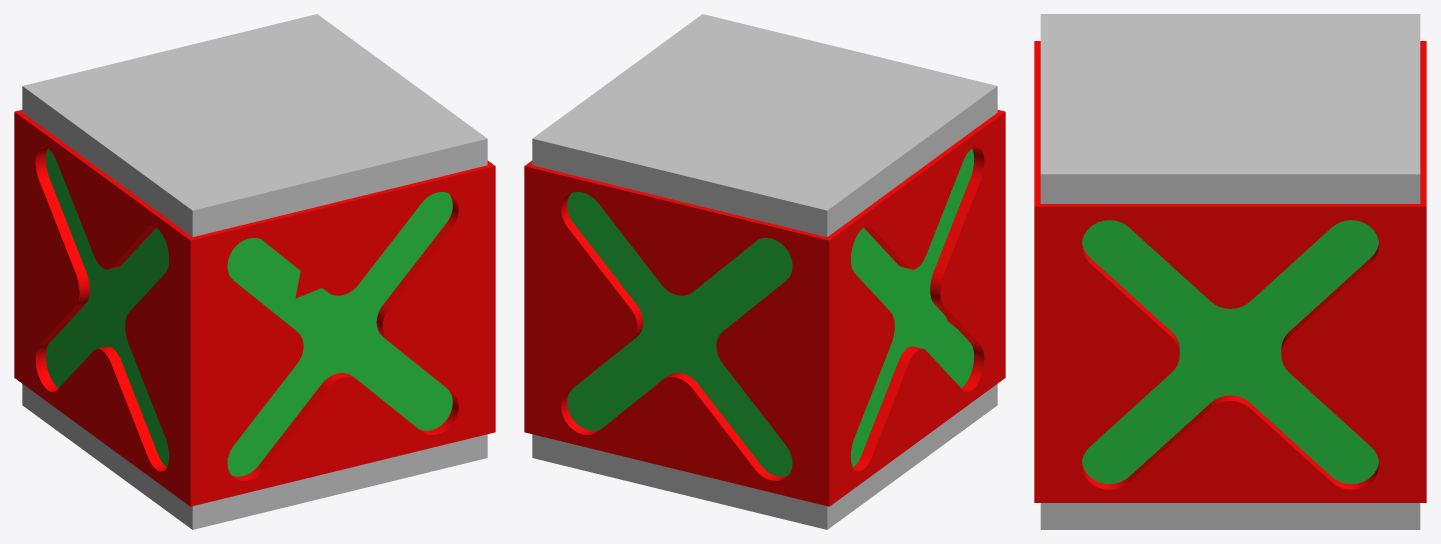
Rendered from NewBox_2.fbx.
3 views of the same model, side by side, from view 1: azimuth 30°, elevation 25°; view 2: azimuth 150°, elevation 25°; view 3: azimuth 270°, elevation 25° (orthographic). The views are drawn at different scales.
Visible parts, largest first — view 1: Box; view 2: Box; view 3: Box.
Boxes of the visible parts, <box> form: Box: <box>14,14,495,529</box>; Box: <box>524,14,1005,529</box>; Box: <box>1034,14,1426,529</box>.
Bounding box in the file's own units: 60 × 60 × 60.
